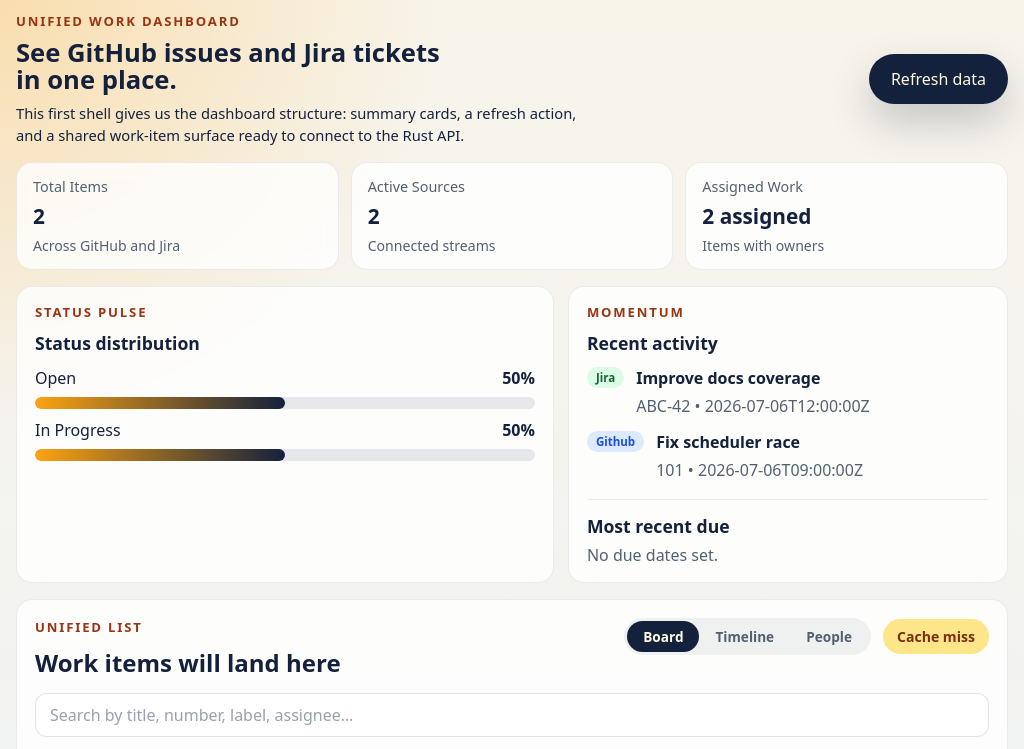
App shell › searches work items by keyword across title and metadata
Type "docs" into the search field named "Search work items". click: coordinates (512, 715)
box: [35,693,989,737]
(page scrolled)
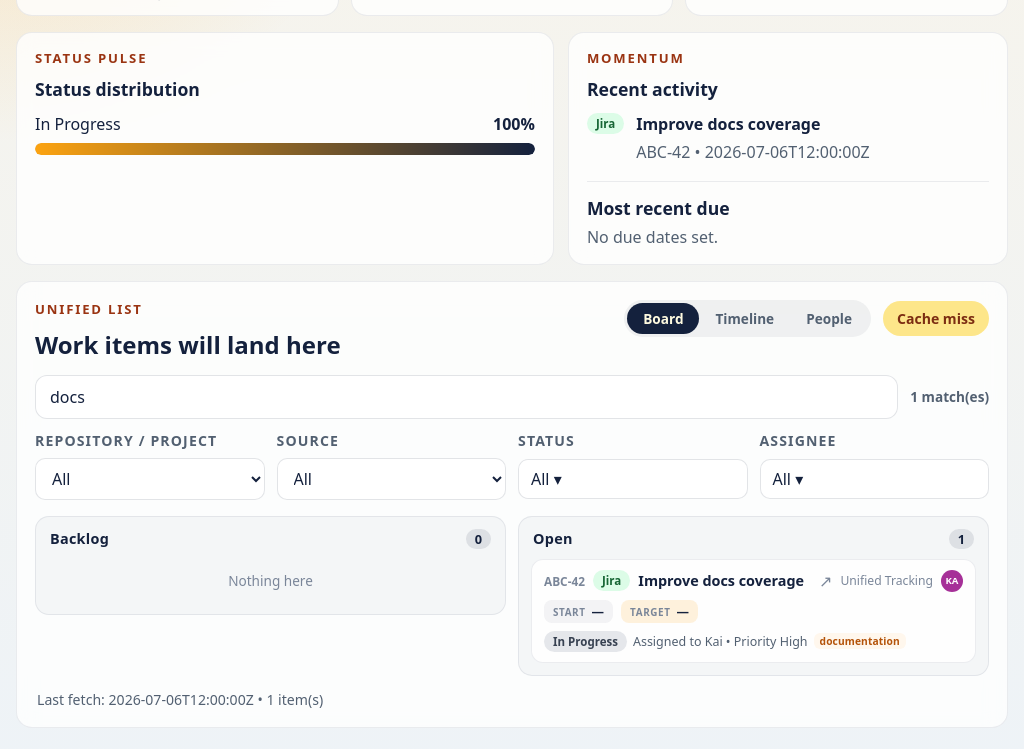
Expected: the button "Improve docs coverage" is shown, [638,572,811,590]
Result: the text "Fix scheduler race" is gone
Result: the text "Last fetch: 2026-07-06T12:00:00Z • 1 item(s)" is shown at [37,690,323,709]
